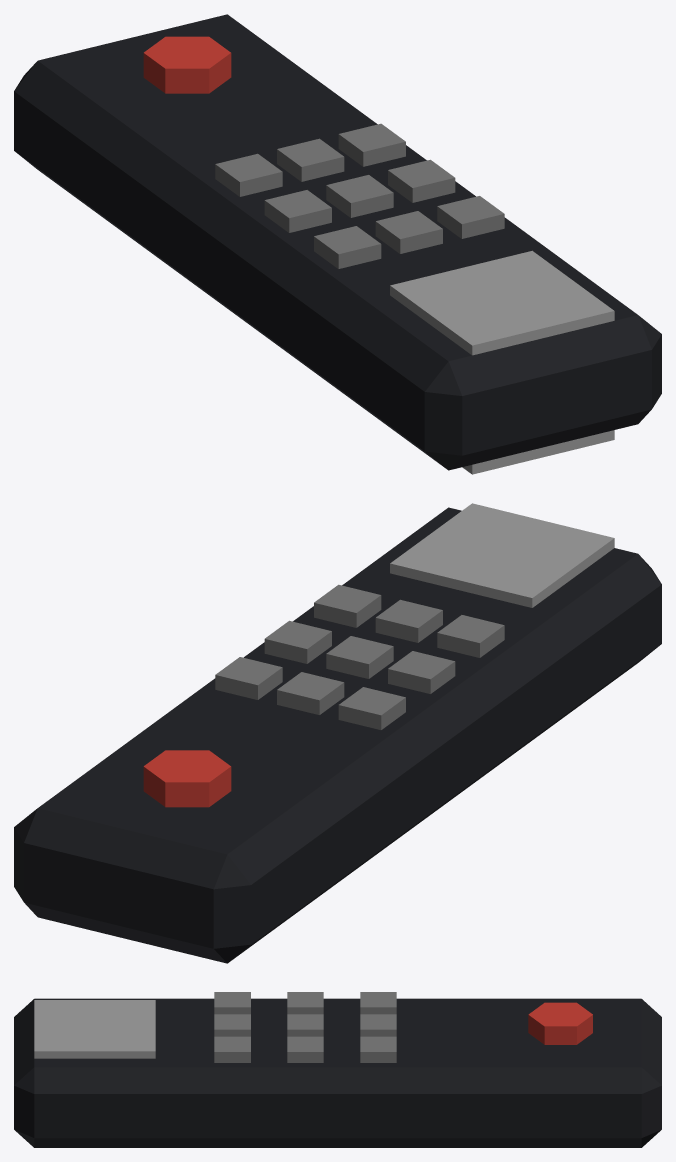
File: remote.fbx
3 renders of one model, top to bottom at view 1: azimuth 30°, elevation 25°; view 2: azimuth 150°, elevation 25°; view 3: azimuth 270°, elevation 25°, orthographic. The views are drawn at different scales.
Parts seen in each view (by area): view 1: remote; view 2: remote; view 3: remote.
Part boxes in pixels (x1,y1,x2,y2): remote: (14,14,661,474); remote: (14,503,661,963); remote: (14,992,661,1147).
Size of the model in its own units: 0.2 by 0.116 by 0.64.
